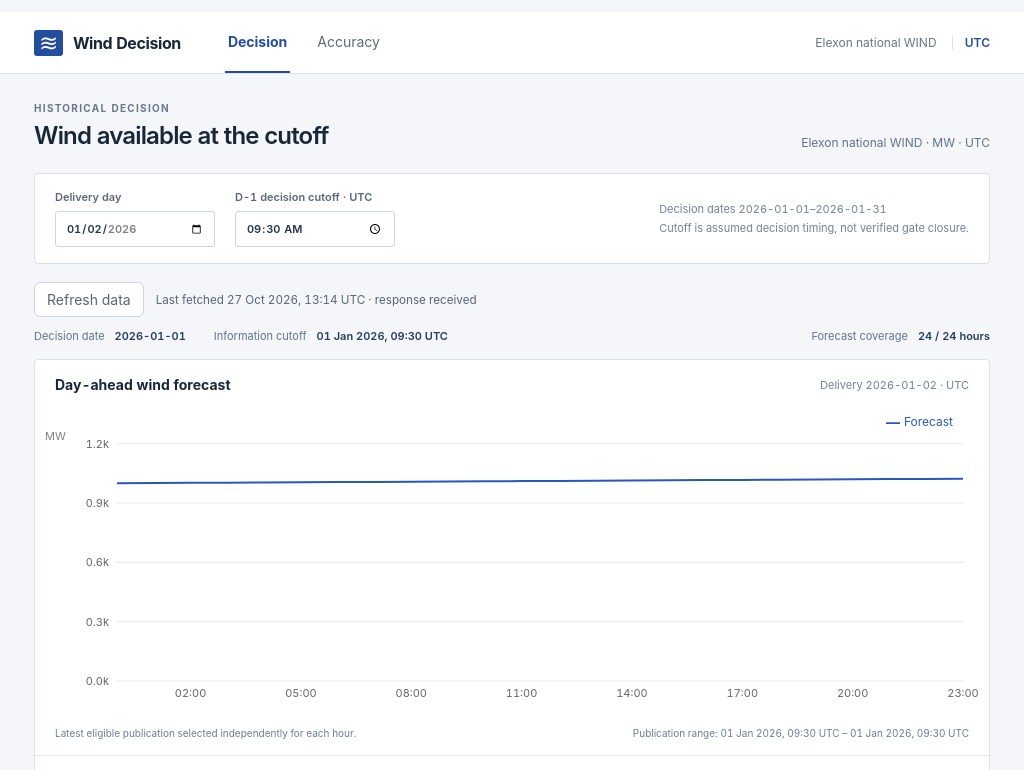
Test case: does not send malformed or out-of-scope controls
expect the text "24 / 24 hours" is shown: met, box 918,329 -> 990,343
In the date field labelled "Delivery day": point(135, 229) 55,211 -> 215,247, type "2026-02-02"
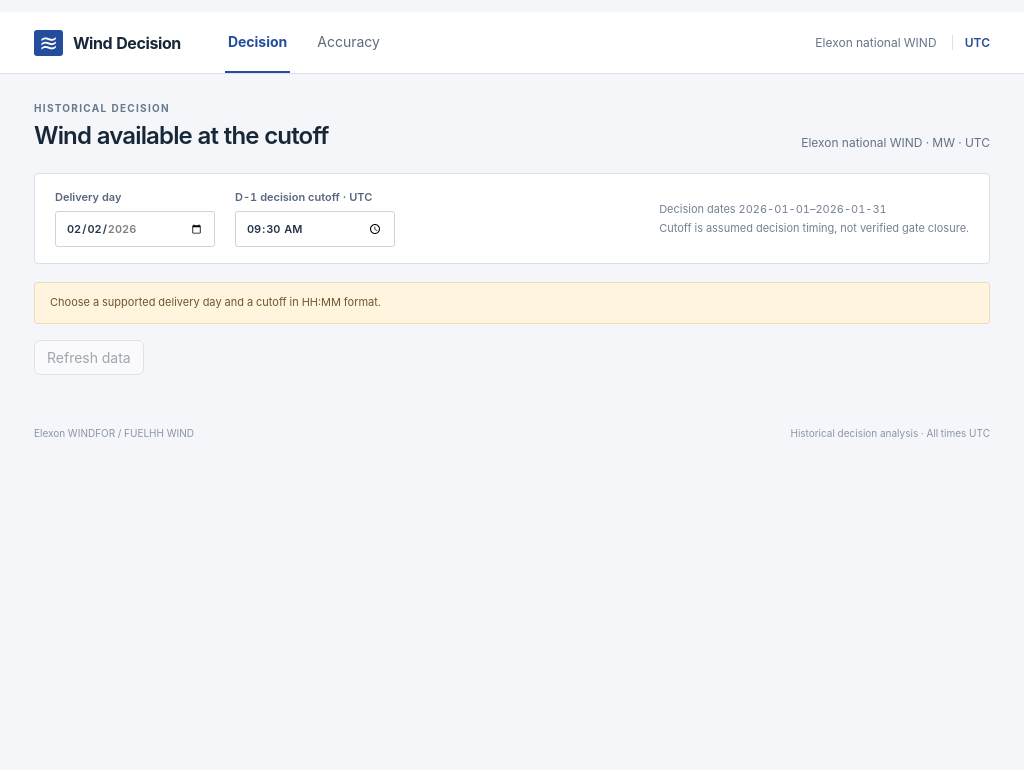
expect the message shows "supported delivery day": met, box 50,295 -> 381,309
expect the text "24 / 24 hours" is gone: met
